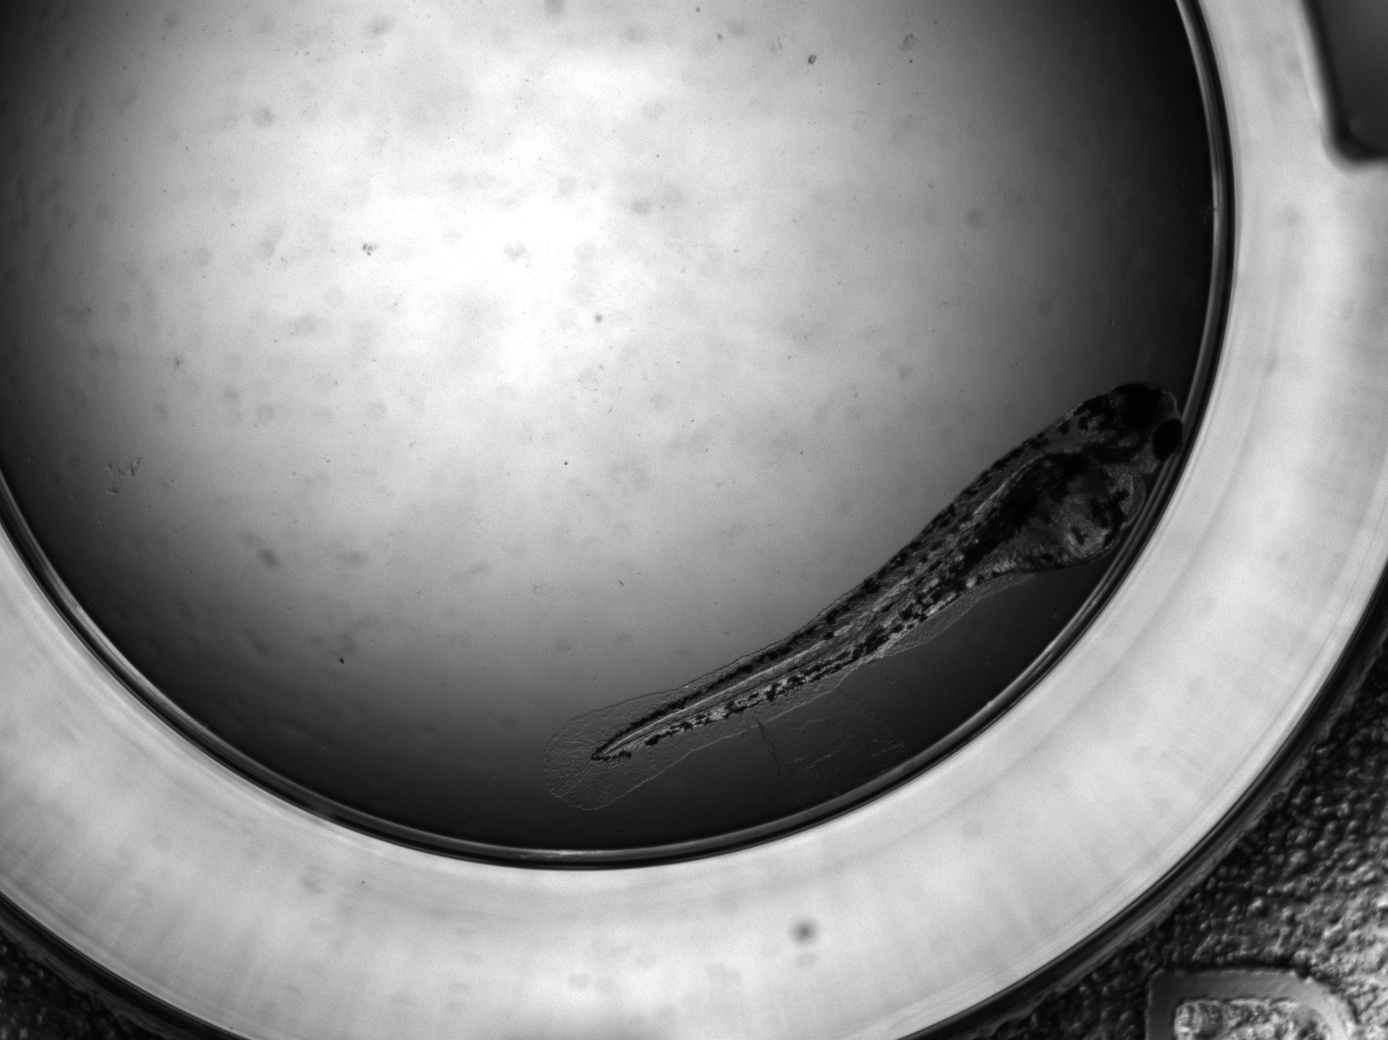embryo: (588, 381, 1188, 764)
eye: (1119, 389, 1160, 429), (1152, 417, 1185, 461)
yolksac: (964, 451, 1146, 578)
